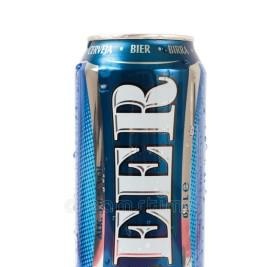beer: (74, 33, 207, 267)
